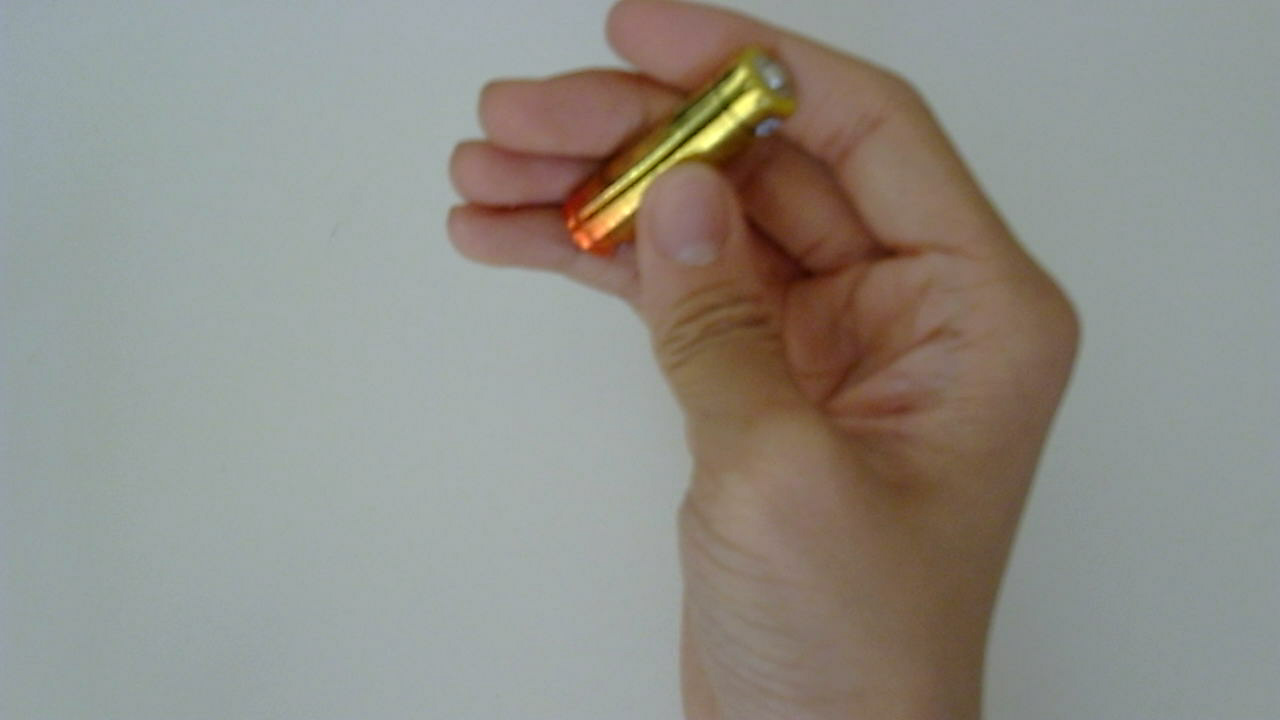Battery: (557, 47, 807, 272)
